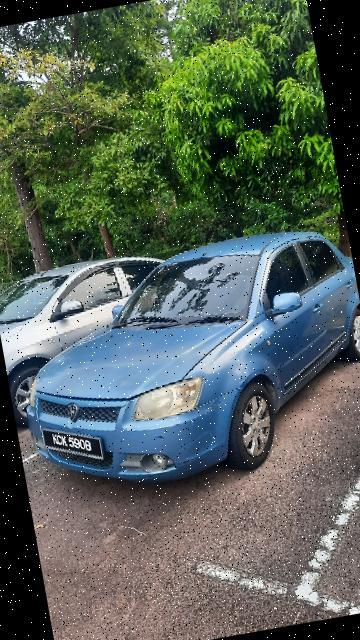License_Plate: (38, 417, 109, 475)
car: (11, 220, 360, 505), (1, 225, 223, 426)
